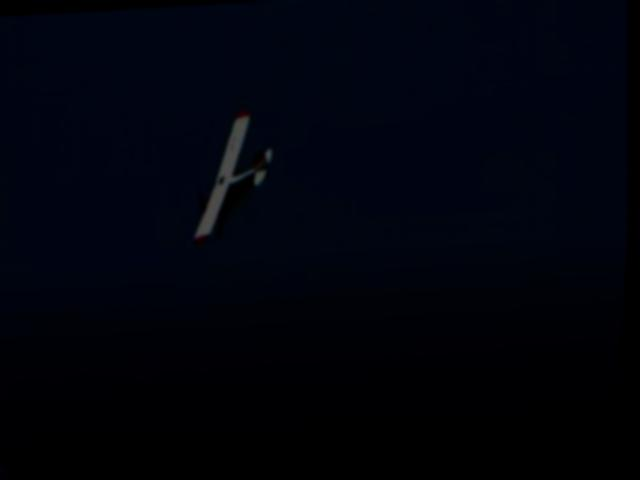uav: (185, 98, 290, 269)
